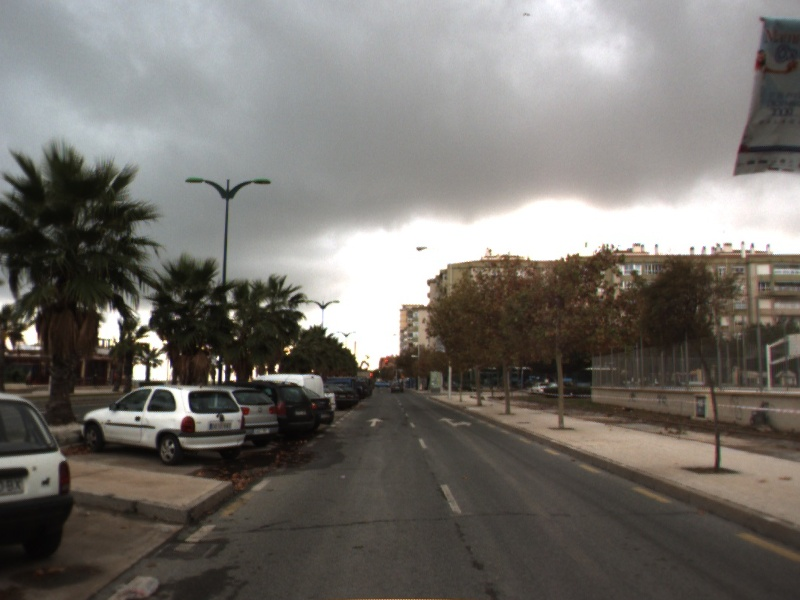STRAIGHT: (364, 416, 386, 428)
STRAIGHT_RIGHT: (437, 415, 475, 429)
